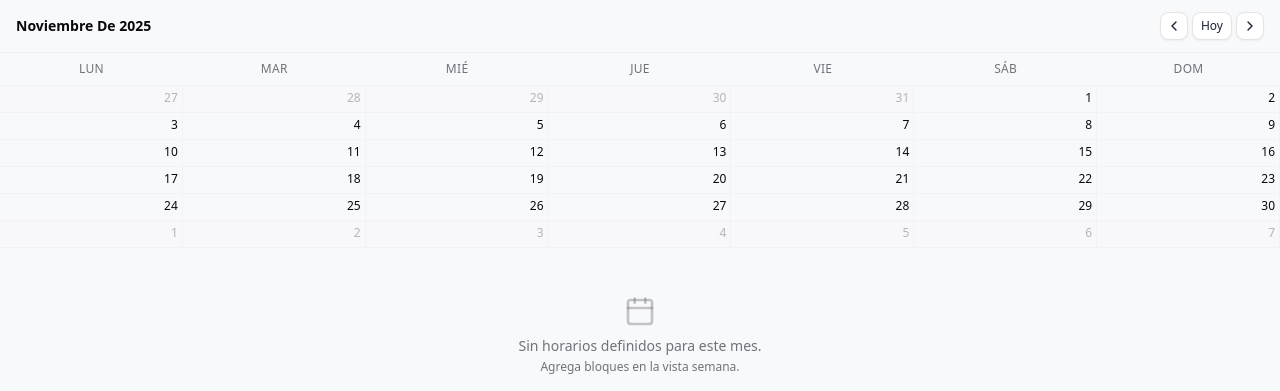
Test case: MonthCalendar — navigation › clicking next updates month label to following month
Click the button with test id "month-nav-next" at (1250, 26), box [1236,12,1264,40]
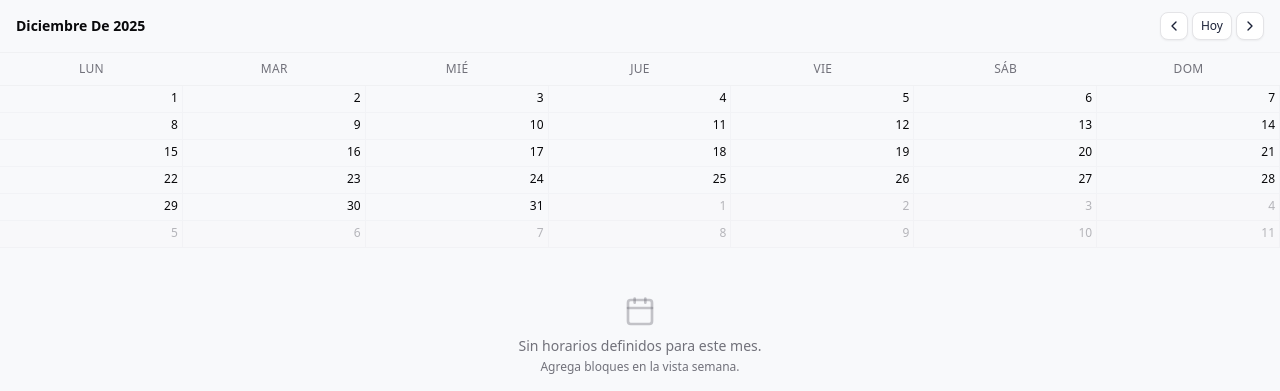
Result: the text with test id "month-label" shows "diciembre" at [16,16,145,35]
